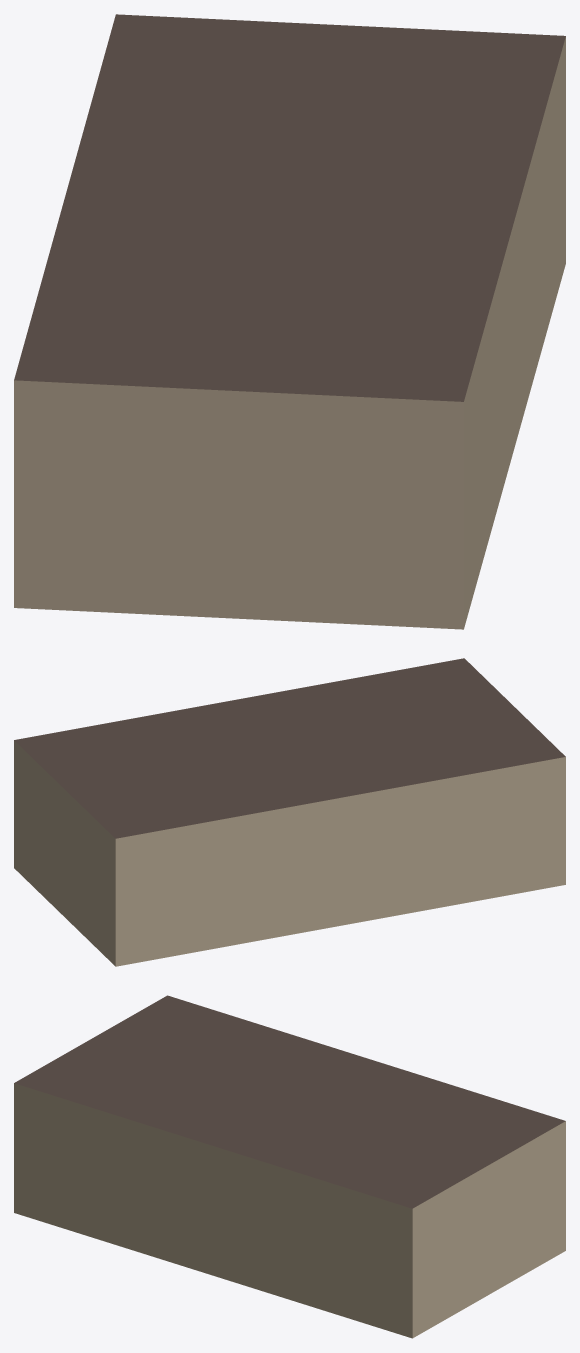
The picture shows the model from 3 angles, top to bottom: view 1: azimuth 30°, elevation 25°; view 2: azimuth 150°, elevation 25°; view 3: azimuth 270°, elevation 25°; orthographic projection. The views are drawn at different scales.
Parts seen in each view (by area): view 1: HP-w1287058600; view 2: HP-w1287058600; view 3: HP-w1287058600.
Boxes of the visible parts, left/top/right/bottom form: HP-w1287058600: left=14, top=14, right=565, bottom=629; HP-w1287058600: left=14, top=658, right=565, bottom=966; HP-w1287058600: left=14, top=995, right=565, bottom=1338.
Size of the model in its own units: 31.73 by 9 by 34.69.
